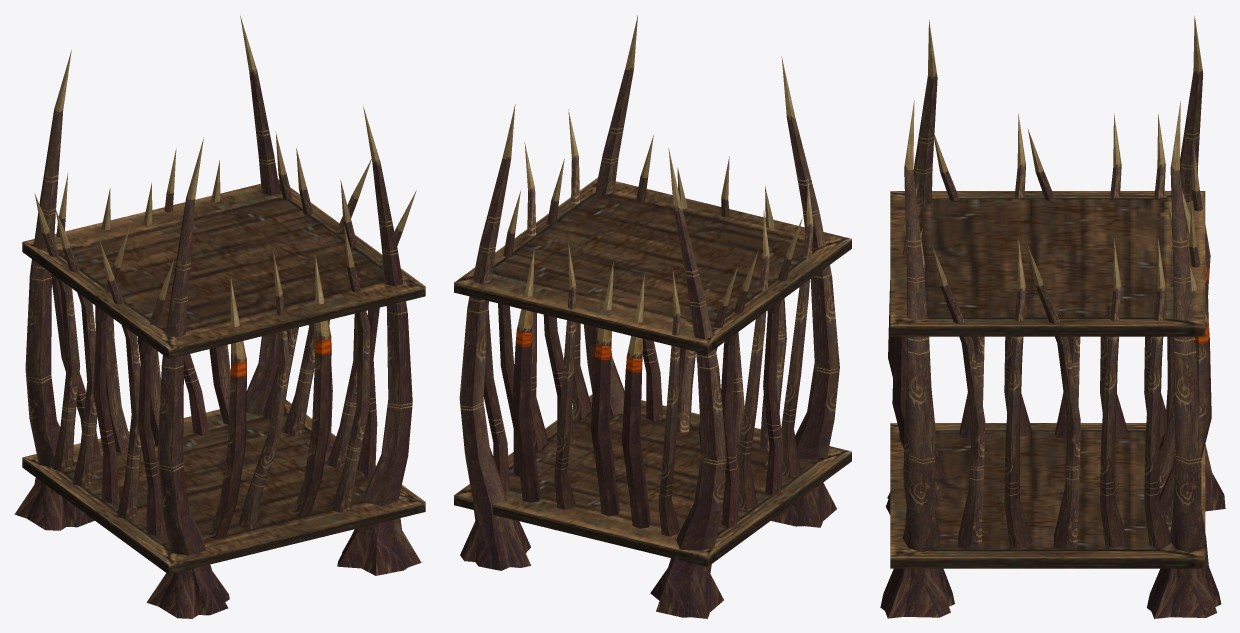
Rendered from 7001_Item_longzi_1.FBX.
3 views of the same model, side by side, from view 1: azimuth 30°, elevation 25°; view 2: azimuth 150°, elevation 25°; view 3: azimuth 270°, elevation 25° (orthographic). The views are drawn at different scales.
Parts seen in each view (by area): view 1: 7001_Item_longzi_1; view 2: 7001_Item_longzi_1; view 3: 7001_Item_longzi_1.
Boxes of the visible parts, x1,y1,x2,y2 form: 7001_Item_longzi_1: (14, 16, 425, 618); 7001_Item_longzi_1: (454, 15, 851, 618); 7001_Item_longzi_1: (880, 16, 1225, 618).
Size of the model in its own units: 496 by 786 by 496.
